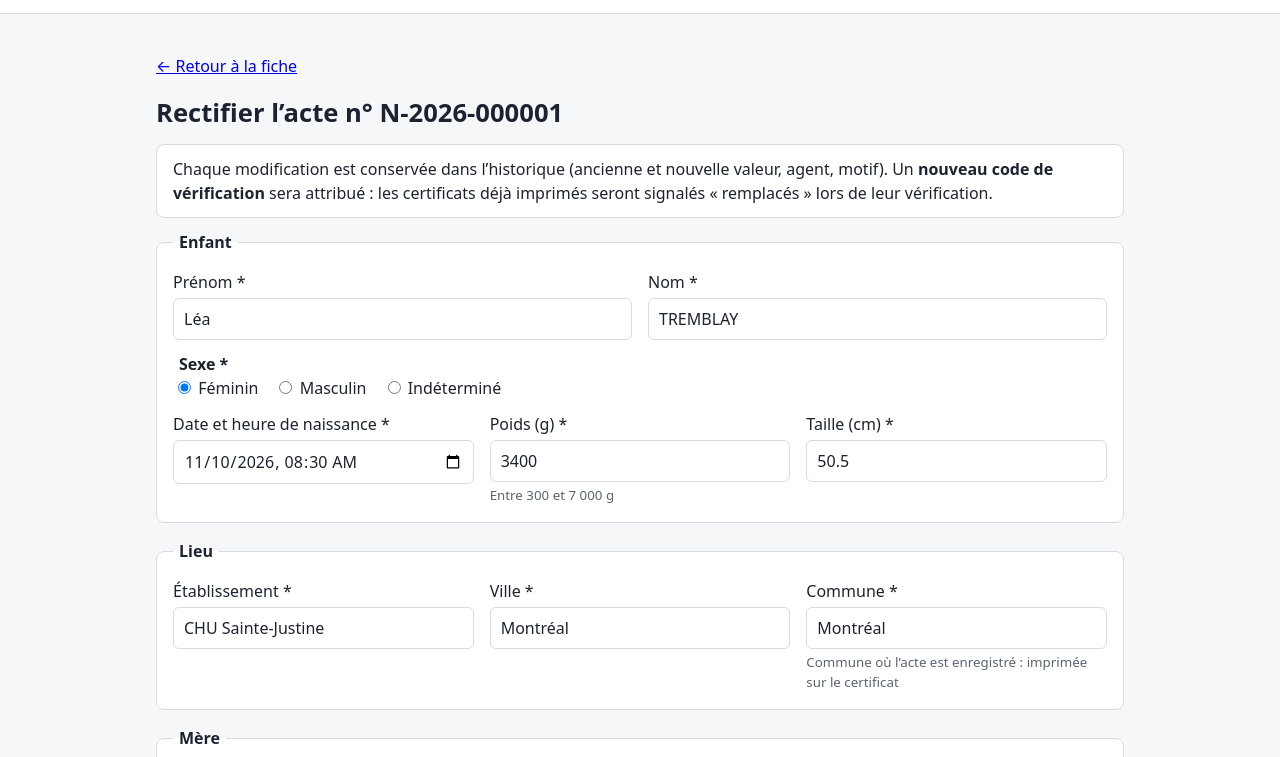
Test: Rectification d’un acte › explique le conflit si quelqu’un a modifié l’acte entre-temps (409)
Replace the text in the field labelled "Ville *" with "Laval" at (640, 628), box [490,607,790,649]
(page scrolled)
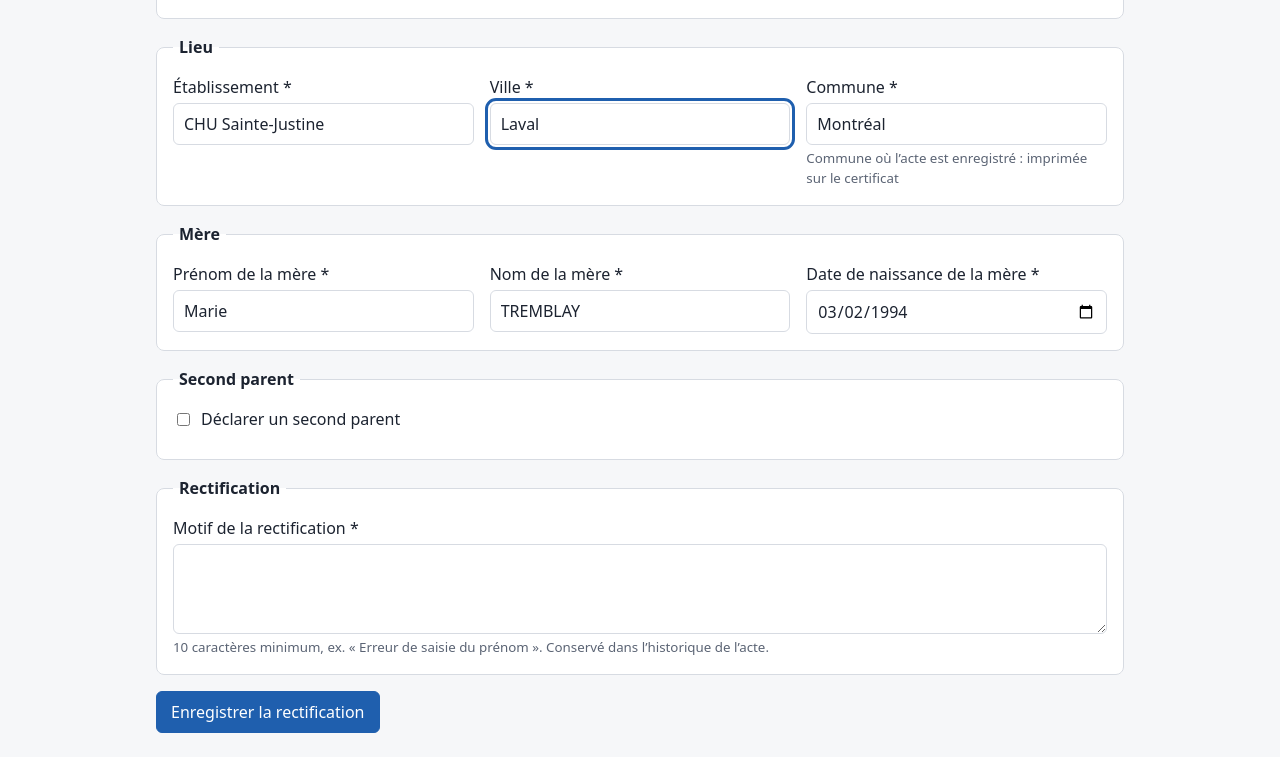
Type "Erreur de saisie de la ville" into the text box labelled "Motif de la rectification *".
click(640, 589); type("Erreur de saisie de la ville")  # box [173,544,1107,634]
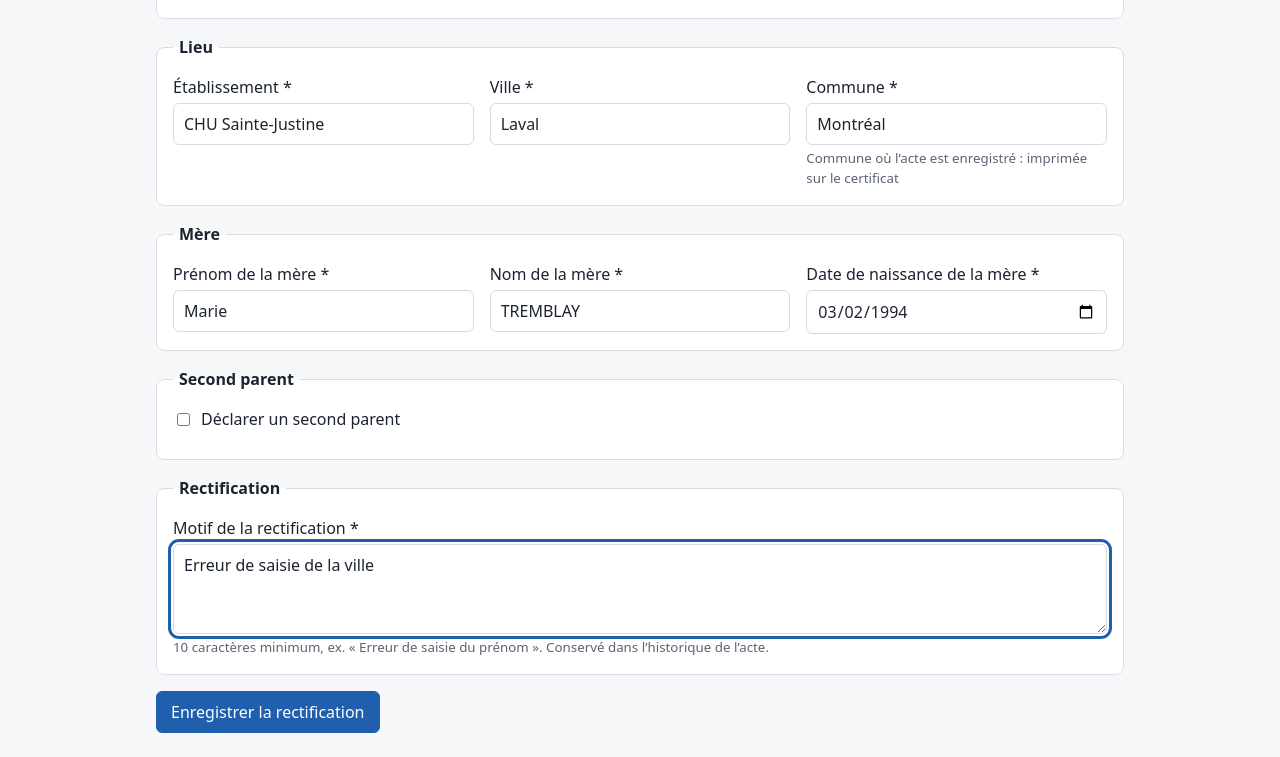
Click the button "Enregistrer la rectification".
click(268, 712)  # box [156,691,380,733]
(page scrolled)
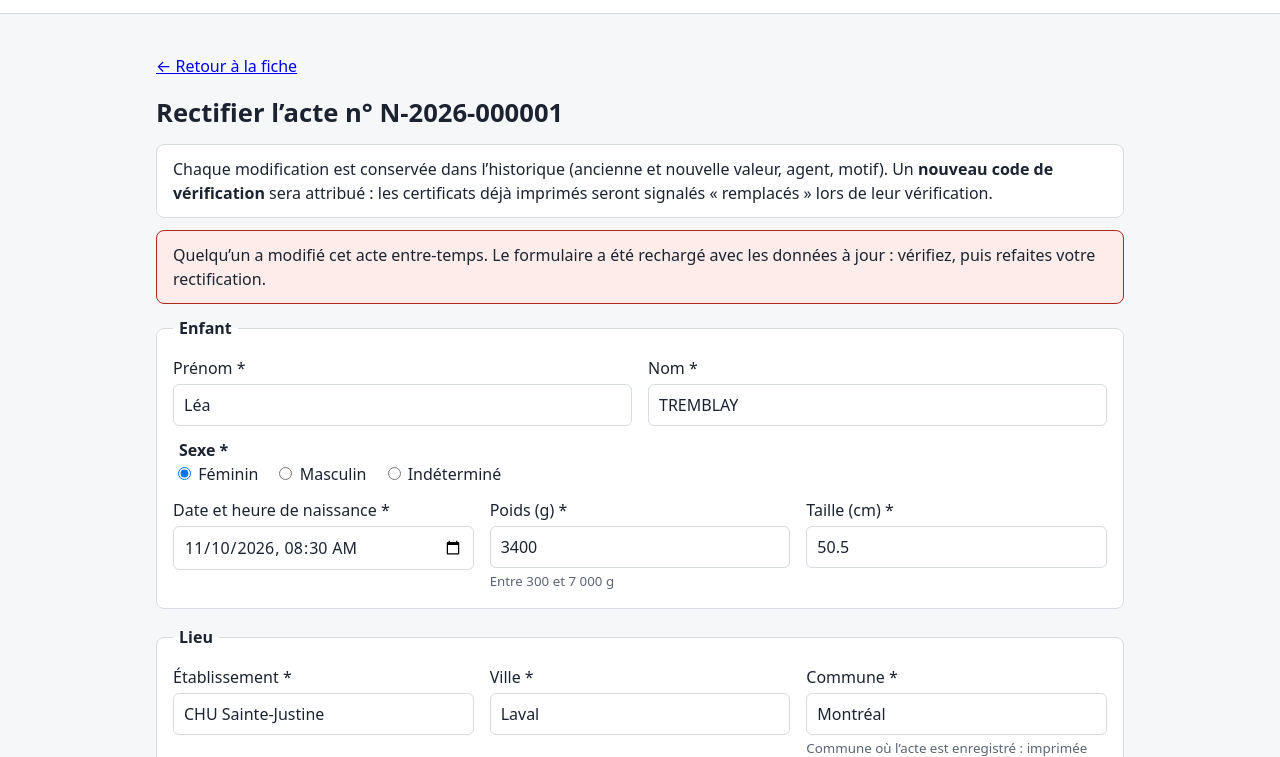
expect the message shows "modifié cet acte entre-temps": met, box [173,244,1095,290]
